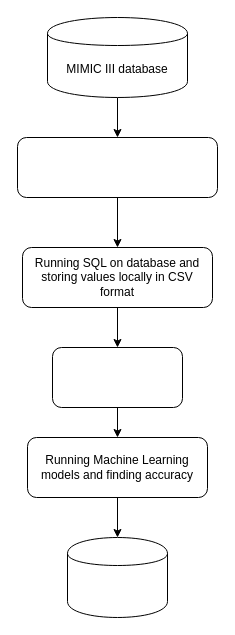
The diagram is 235 pixels wide and 635 high, and some of its shapes have lost their labels. Here are the shapes that lost their labels. From the top down, the centre of each, then its label:
[117,167]: Finding most relevant data for prediction of Sepsis prediction
[117,377]: Preprocessing data
